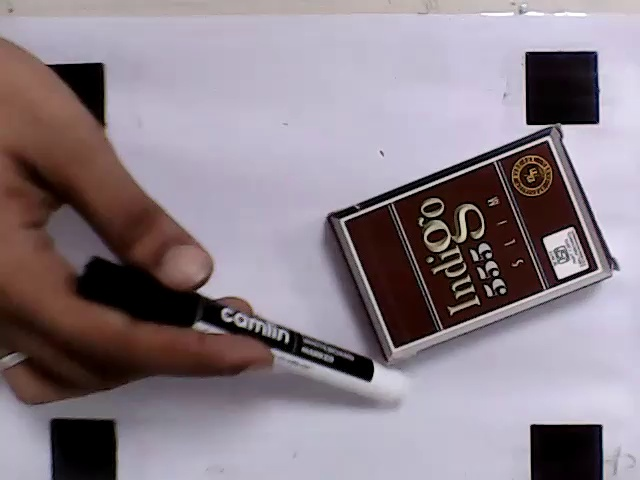BEX: (343, 139, 601, 348)
